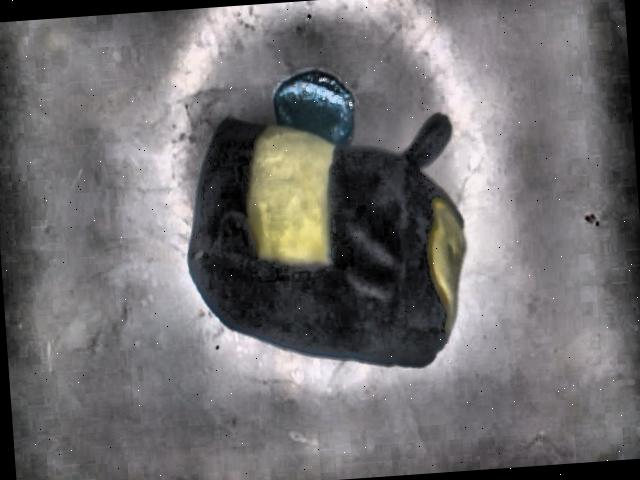Almennt: (187, 68, 469, 365)
